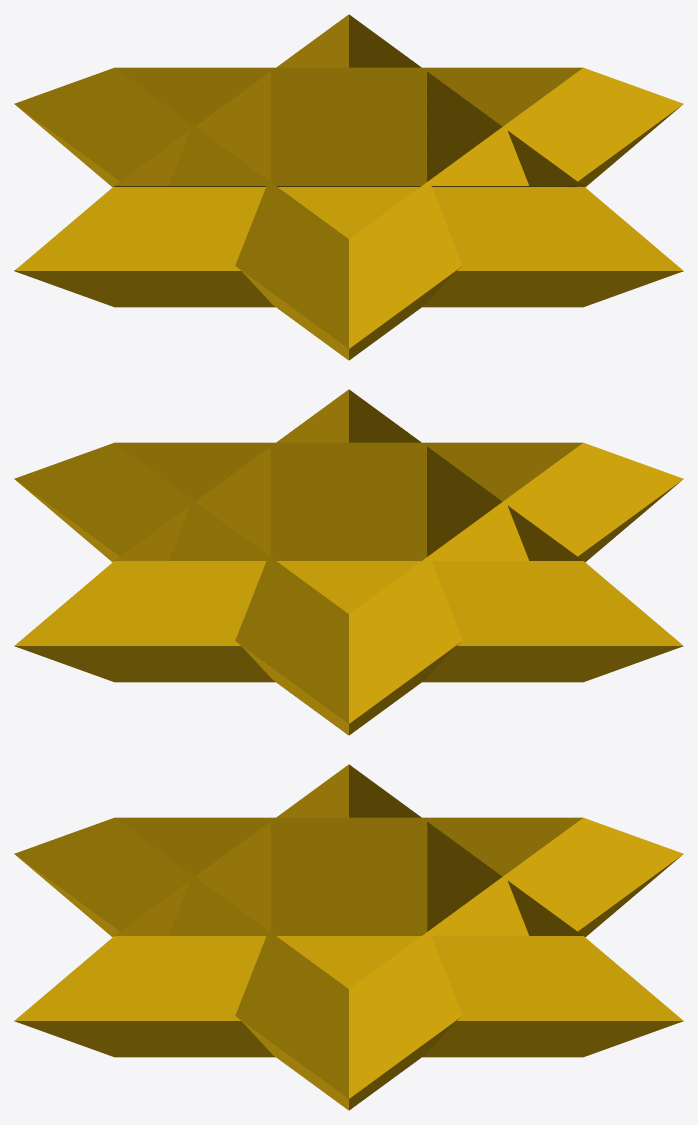
Rendered from Triangle.gltf.
The picture shows the model from 3 angles, top to bottom: view 1: azimuth 30°, elevation 25°; view 2: azimuth 150°, elevation 25°; view 3: azimuth 270°, elevation 25°; orthographic projection.
Visible parts, largest first — view 1: Torus; view 2: Torus; view 3: Torus.
Boxes of the visible parts, left/top/right/bottom form: Torus: left=14, top=14, right=683, bottom=360; Torus: left=14, top=389, right=683, bottom=735; Torus: left=14, top=764, right=683, bottom=1110.
Size of the model in its own units: 0.4 by 0.0714 by 0.3464.
